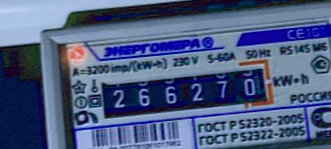0: (242, 74, 256, 97)
2: (111, 86, 127, 108), (190, 80, 204, 102)
6: (137, 85, 152, 107), (163, 83, 178, 103)
7: (215, 77, 229, 99)
screen: (90, 53, 282, 128)
